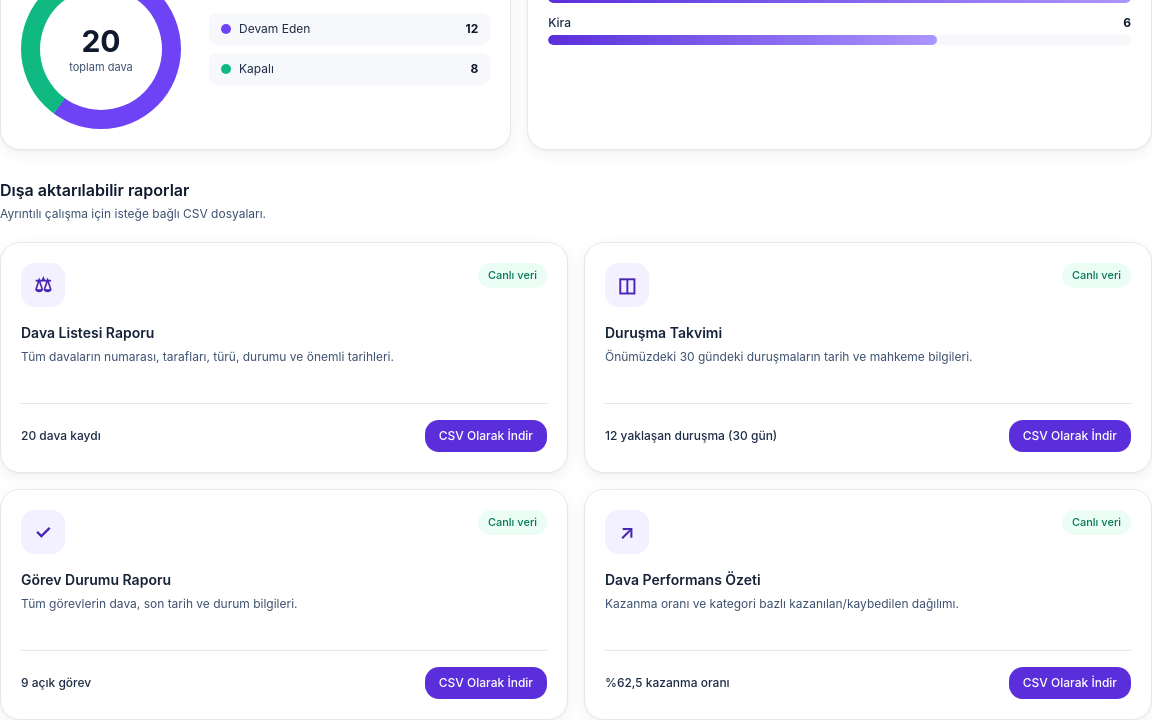
Test case: ReportsView › shows an error message when the download fails
(page scrolled)
Click the button "CSV Olarak İndir" in the row of "20 dava kaydı".
click(486, 436)  # box [425,420,547,452]
(page scrolled)
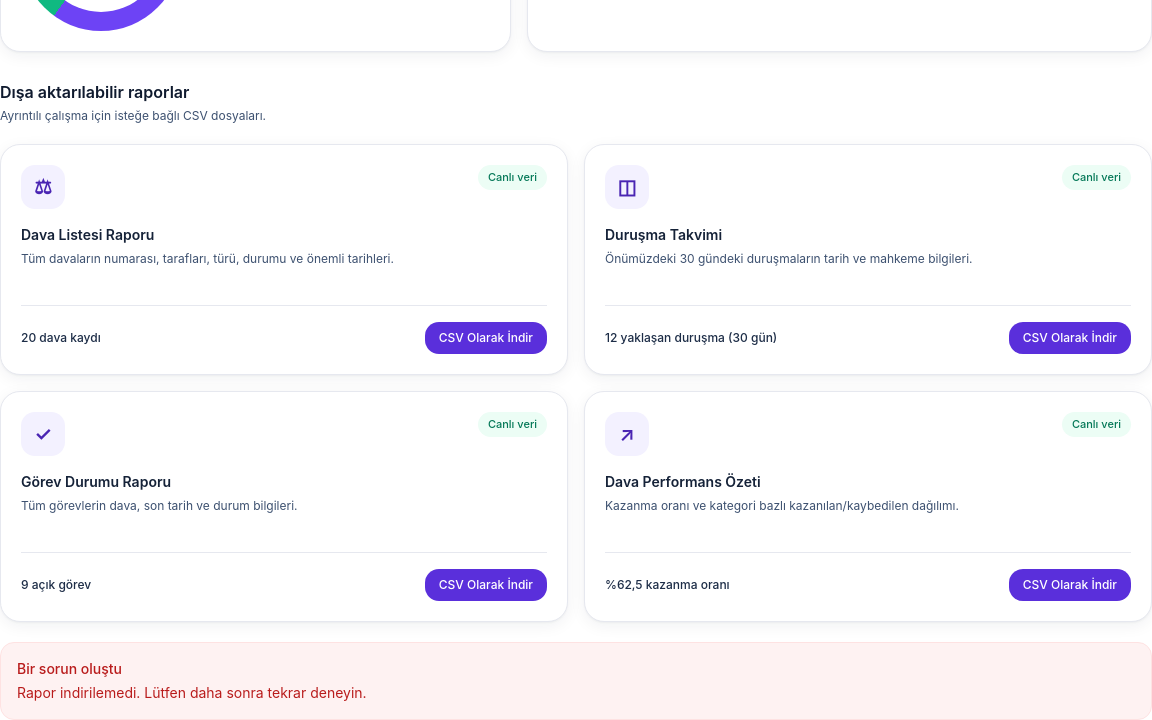
Expected: the text "Rapor indirilemedi. Lütfen daha sonra tekrar deneyin." is shown, [17,683,367,703]
